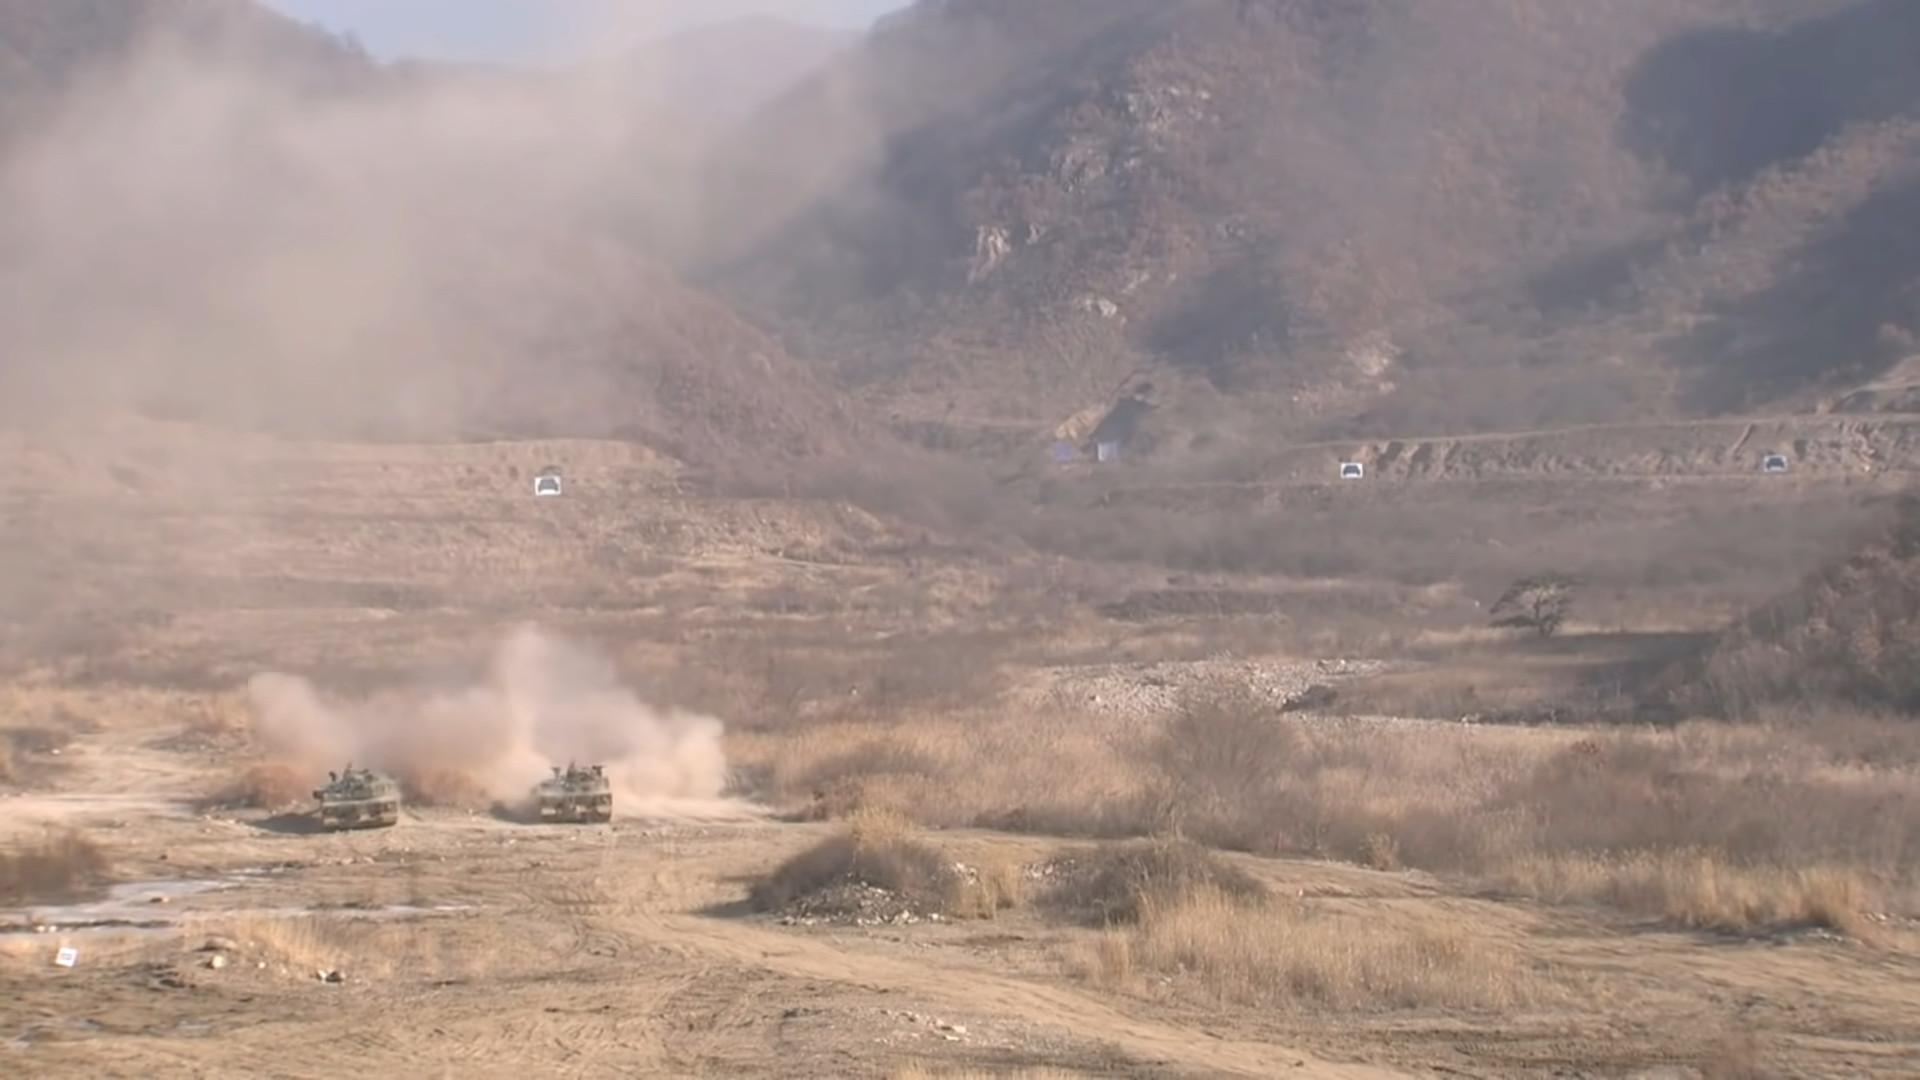tank: (313, 761, 401, 831), (531, 757, 614, 822)
